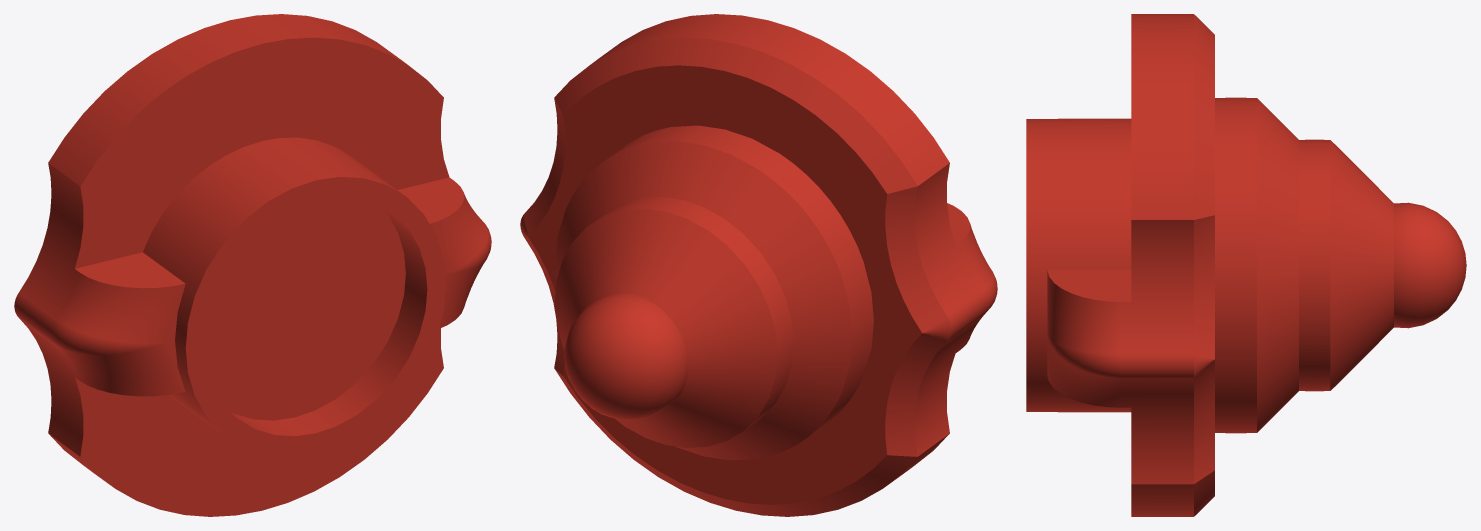
The model's file is Defence Tip.fbx.
3 renders of one model, left to right at view 1: azimuth 30°, elevation 25°; view 2: azimuth 150°, elevation 25°; view 3: azimuth 270°, elevation 25°, orthographic. The views are drawn at different scales.
Visible parts, largest first — view 1: Defence Tip; view 2: Defence Tip; view 3: Defence Tip.
Part boxes in pixels (x1,y1,x2,y2): Defence Tip: (14,14,491,516); Defence Tip: (520,14,997,516); Defence Tip: (1026,14,1466,516).
Bounding box in the file's own units: 23.2 × 24 × 21.
